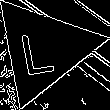L_N: (23, 22, 64, 77)
